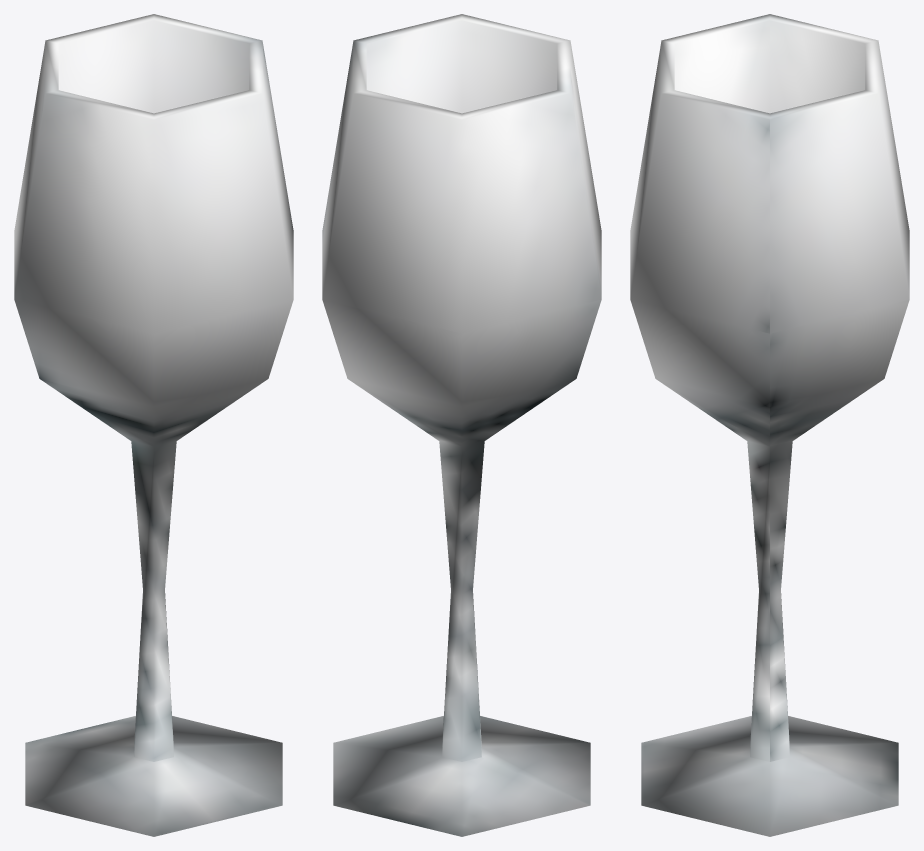
The model's file is WineGlass.fbx.
3 views of the same model, side by side, from view 1: azimuth 30°, elevation 25°; view 2: azimuth 150°, elevation 25°; view 3: azimuth 270°, elevation 25° (orthographic).
Visible parts, largest first — view 1: Beer&Wine.020; view 2: Beer&Wine.020; view 3: Beer&Wine.020.
Boxes of the visible parts, left/top/right/bottom form: Beer&Wine.020: left=14, top=14, right=293, bottom=836; Beer&Wine.020: left=322, top=14, right=601, bottom=836; Beer&Wine.020: left=630, top=14, right=909, bottom=836.
Bounding box in the file's own units: 0.1012 × 0.2447 × 0.0876.
